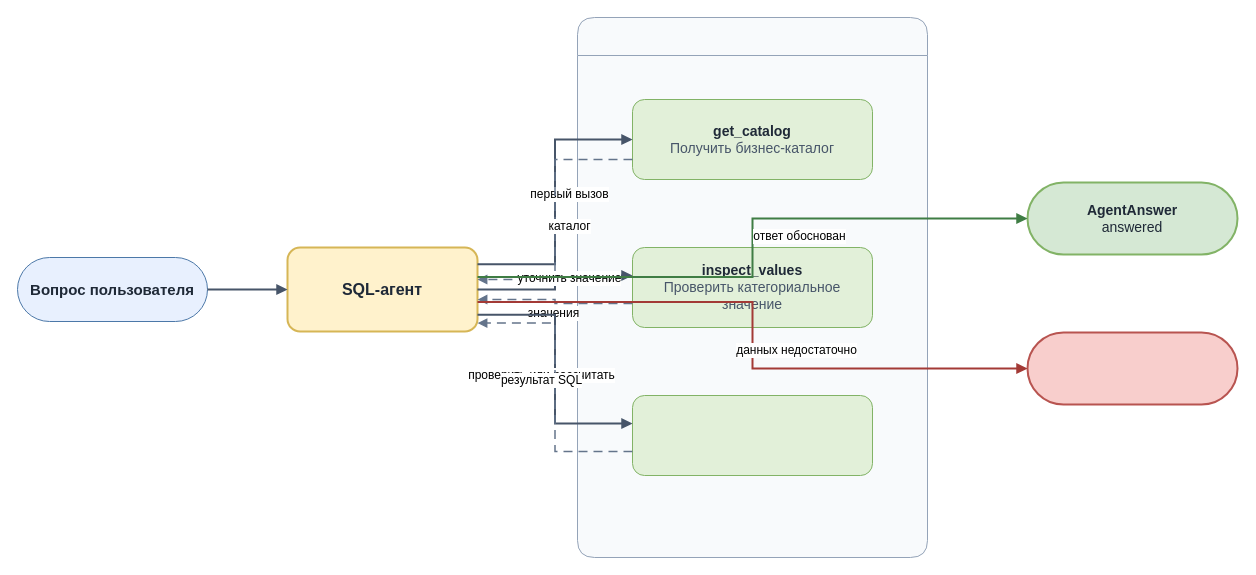
Some shapes in this 1256 by 575 pixel diagram are drawn without their labels. The shapes that lost their labels are listed below. From the top down, each one's box as (x1, y1, x2, y2) in pixels, then its label:
(576, 16, 928, 558): MCP-инструменты хранилища
(1026, 331, 1238, 405): AgentAnswer insufficient_data
(632, 394, 872, 476): run_sql Проверить данные или выполнить расчёт
